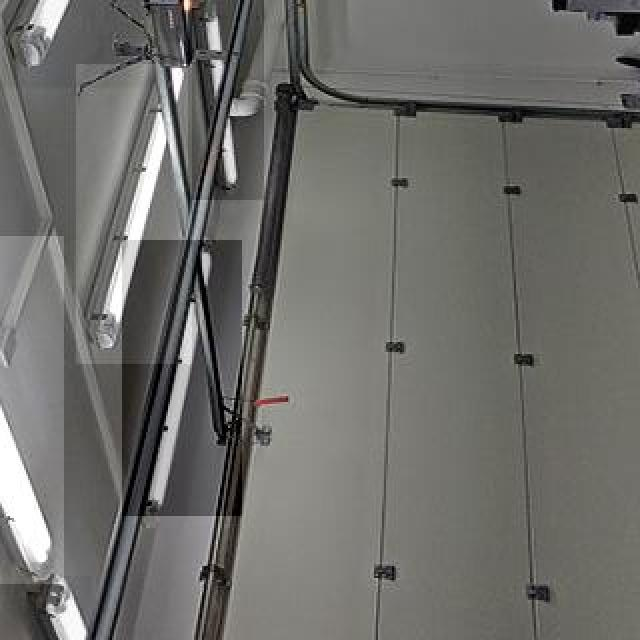fluorescent tube: (79, 55, 197, 367), (116, 233, 231, 535), (0, 240, 46, 578), (0, 0, 160, 84), (192, 0, 254, 198), (2, 572, 120, 640)
